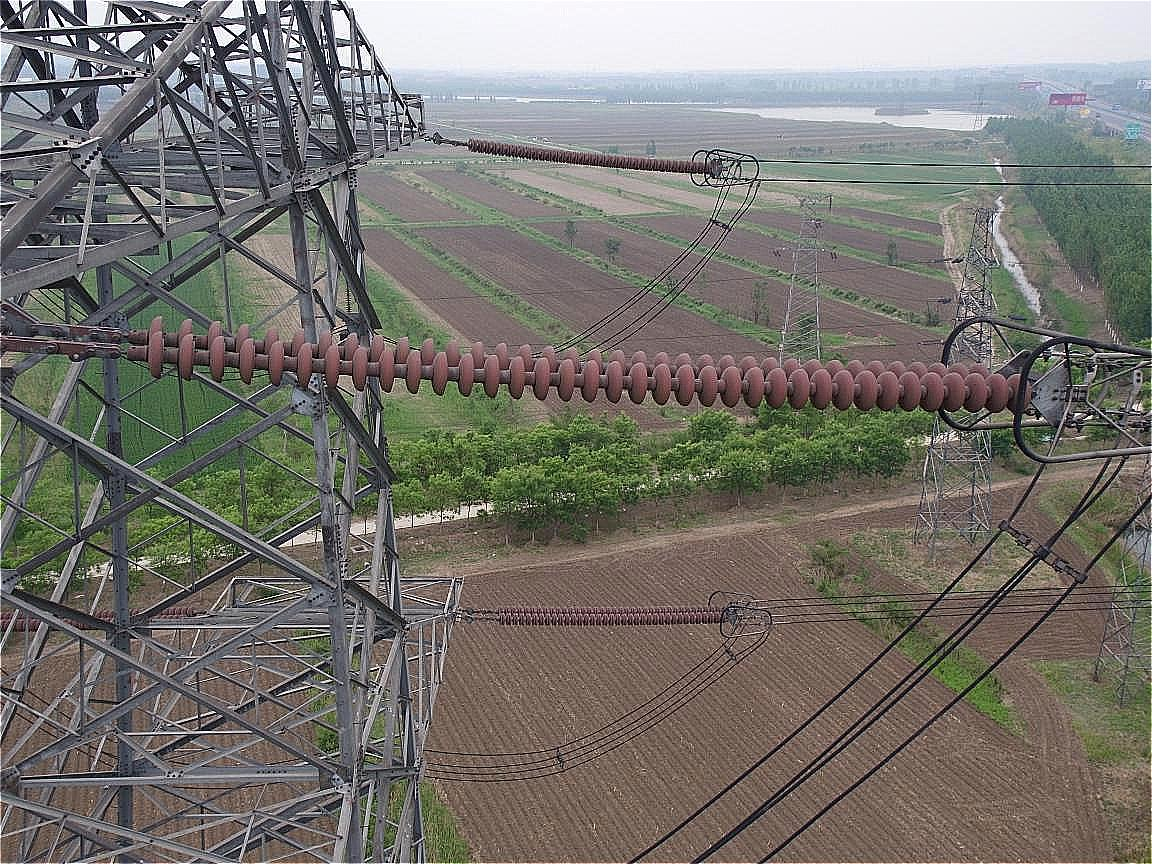insultor1: (114, 295, 1060, 438), (460, 130, 720, 187)
